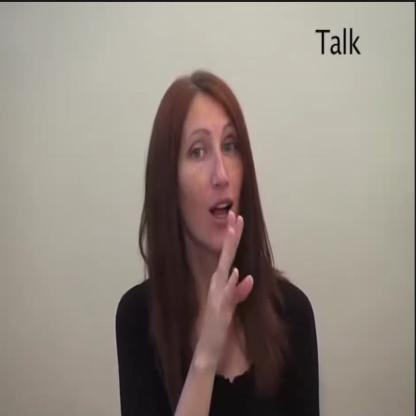Talk: (153, 77, 282, 370)
